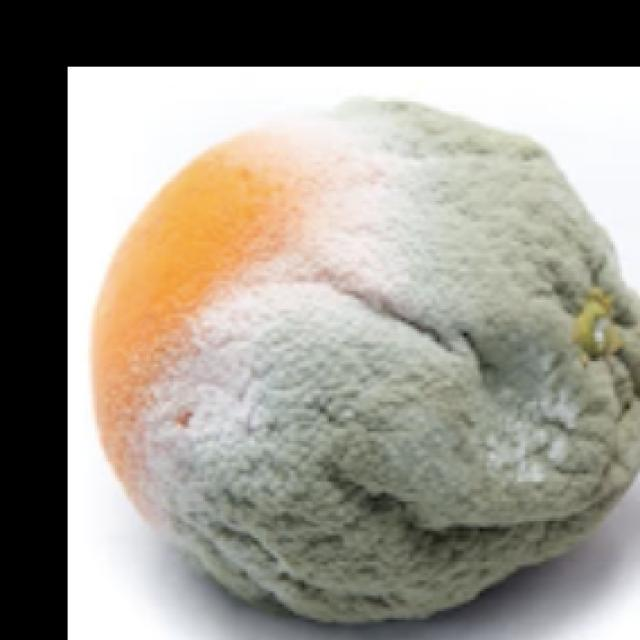sangat-busuk: (92, 101, 639, 622)
